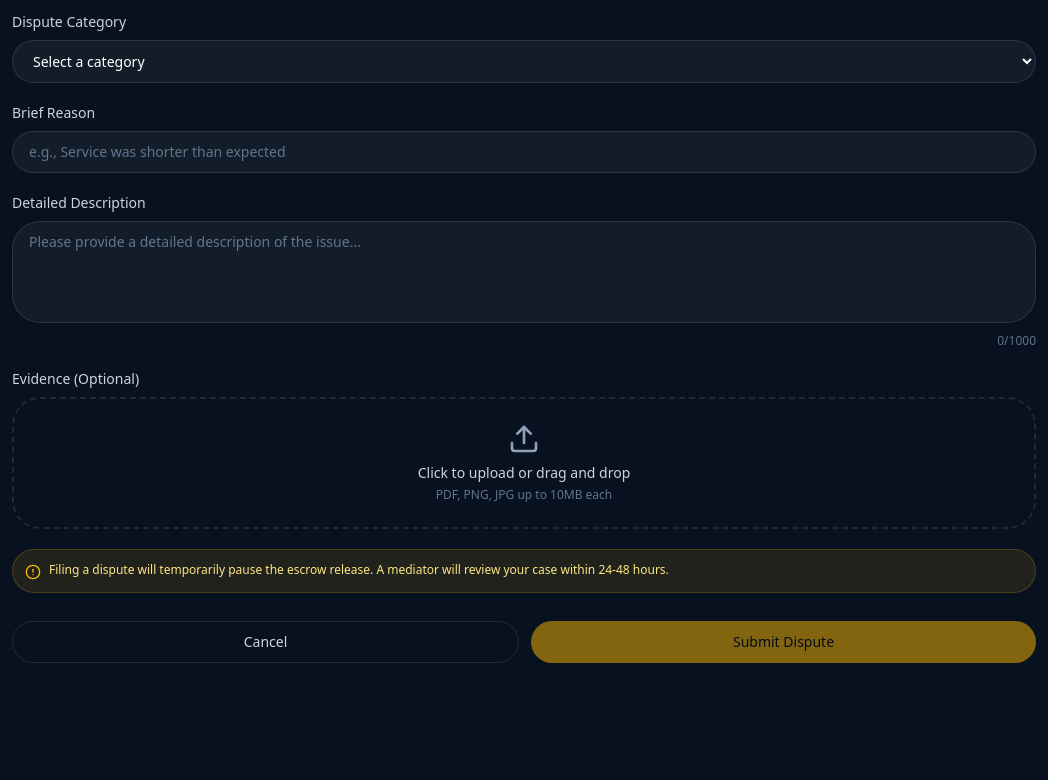
DisputeFilingForm – description character counter › updates counter as user types
The image size is (1048, 780).
In the text box with placeholder "Please provide a detailed description of the issue...": [524, 272] box [12,221,1036,323], type "Hello"
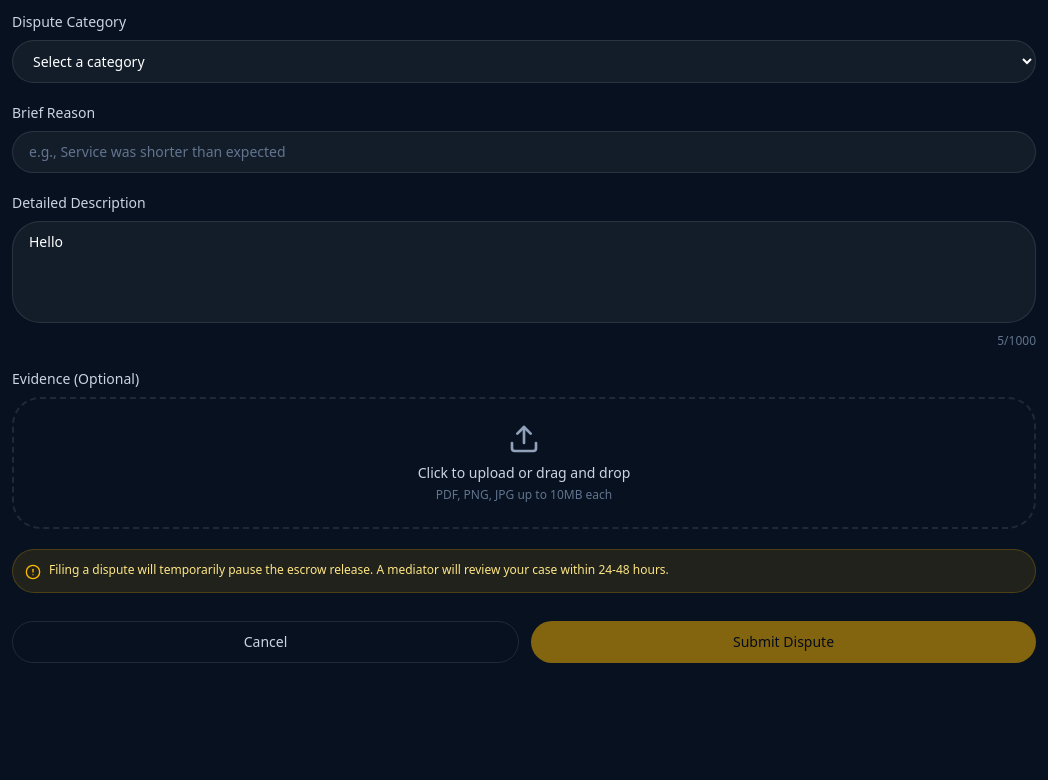
Expected: the text "5/1000" is shown, [997,332,1036,349]
